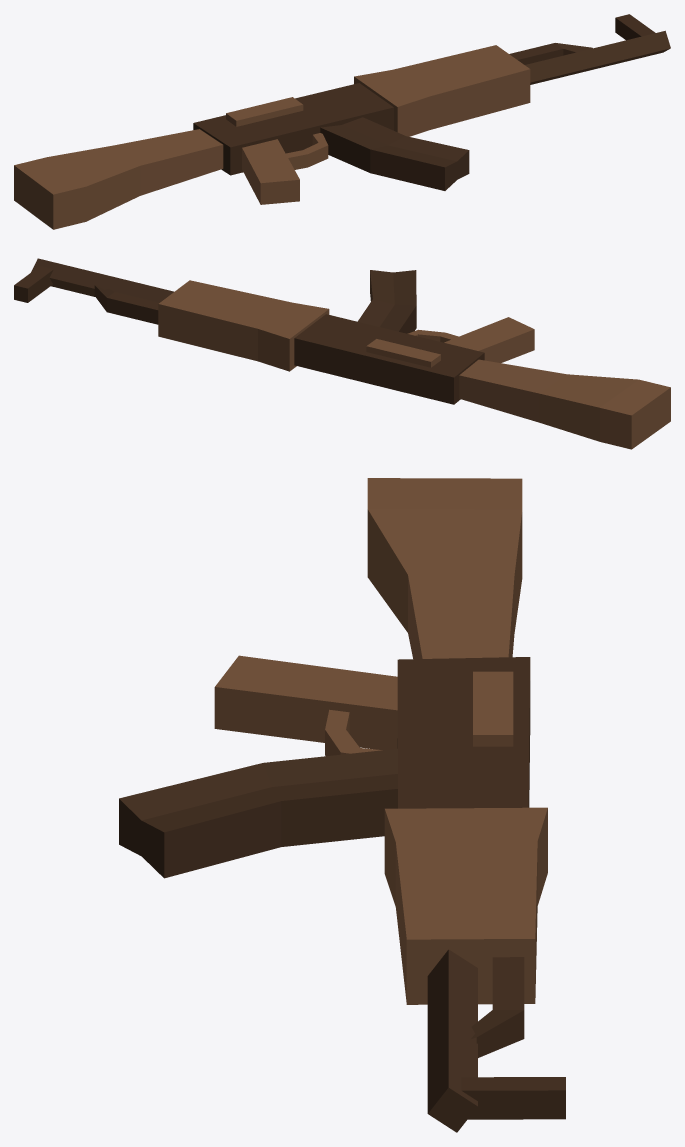
File: rifle.fbx
3 renders of one model, top to bottom at view 1: azimuth 30°, elevation 25°; view 2: azimuth 150°, elevation 25°; view 3: azimuth 270°, elevation 25°, orthographic. The views are drawn at different scales.
Parts seen in each view (by area): view 1: pCube166; view 2: pCube166; view 3: pCube166.
Boxes of the visible parts, bbox=[...] form: pCube166: bbox=[14, 14, 670, 229]; pCube166: bbox=[14, 258, 670, 449]; pCube166: bbox=[119, 478, 565, 1132].
Size of the model in its own units: 2.35 by 0.134 by 0.7435.
